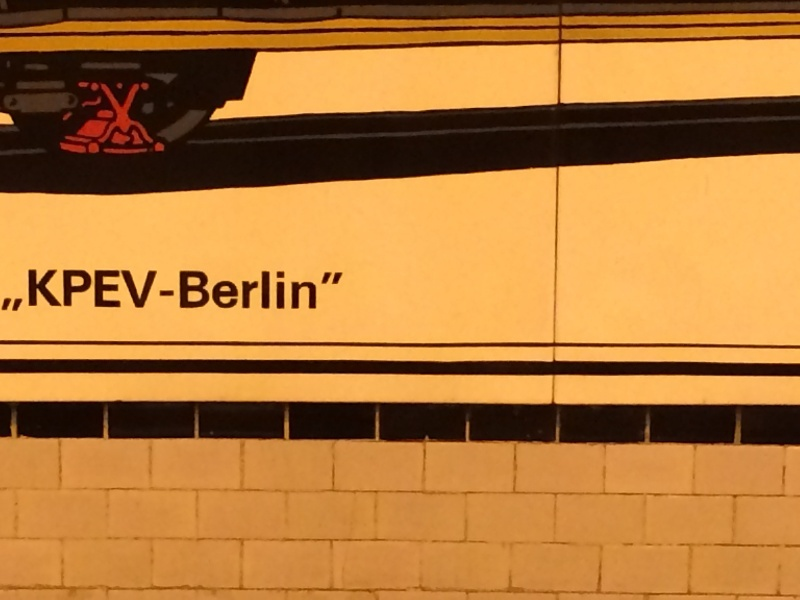text: (17, 269, 32, 312), (33, 269, 48, 312), (49, 269, 64, 312), (65, 269, 80, 312), (81, 269, 96, 312), (97, 269, 112, 312), (113, 269, 128, 312), (129, 269, 144, 312), (145, 269, 160, 312), (161, 269, 176, 312), (177, 269, 192, 312), (193, 269, 208, 312), (209, 269, 224, 312), (225, 269, 240, 312), (241, 269, 256, 312), (257, 269, 272, 312), (273, 269, 288, 312), (289, 269, 304, 312), (305, 269, 320, 312), (321, 269, 336, 312), (337, 269, 350, 312), (11, 269, 16, 312)
